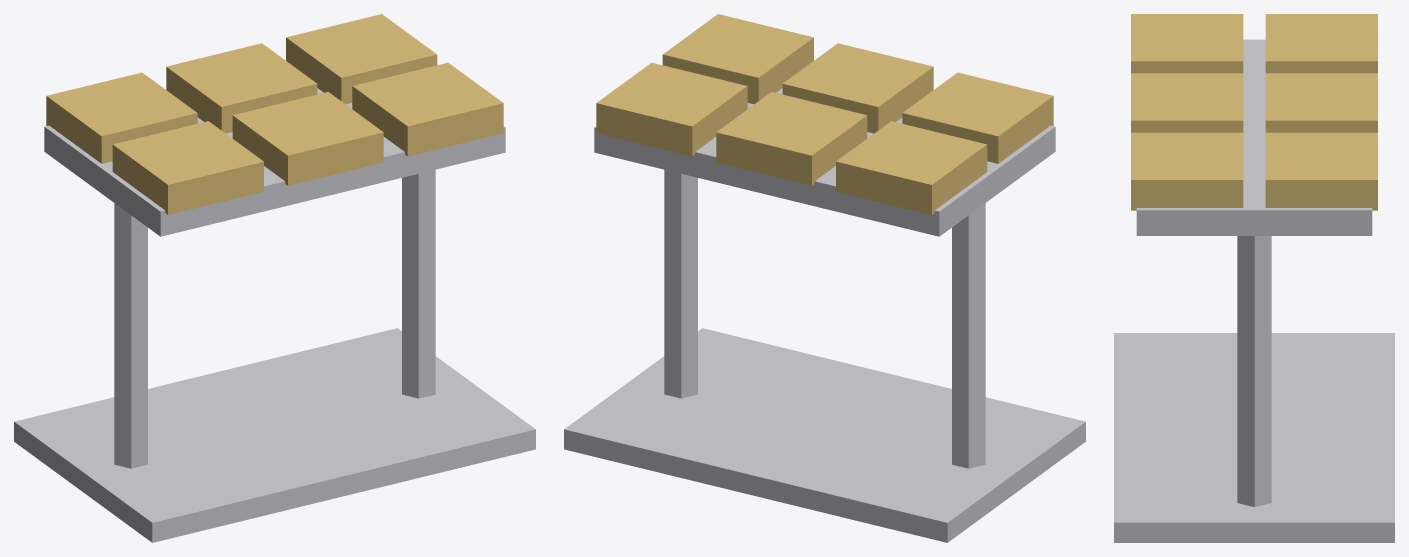
Rendered from moon-retroreflector.gltf.
The picture shows the model from 3 angles, left to right: view 1: azimuth 30°, elevation 25°; view 2: azimuth 150°, elevation 25°; view 3: azimuth 270°, elevation 25°; orthographic projection.
Parts seen in each view (by area): view 1: moon-retroreflector, gold; view 2: moon-retroreflector, gold; view 3: moon-retroreflector, gold.
Boxes of the visible parts, box(x1,y1,x2,y2) form: moon-retroreflector: box(14, 88, 535, 542); gold: box(46, 14, 503, 214); moon-retroreflector: box(564, 88, 1085, 542); gold: box(596, 14, 1053, 214); moon-retroreflector: box(1114, 39, 1394, 542); gold: box(1131, 14, 1377, 210).
Size of the model in its own units: 0.8 by 0.71 by 0.5.
